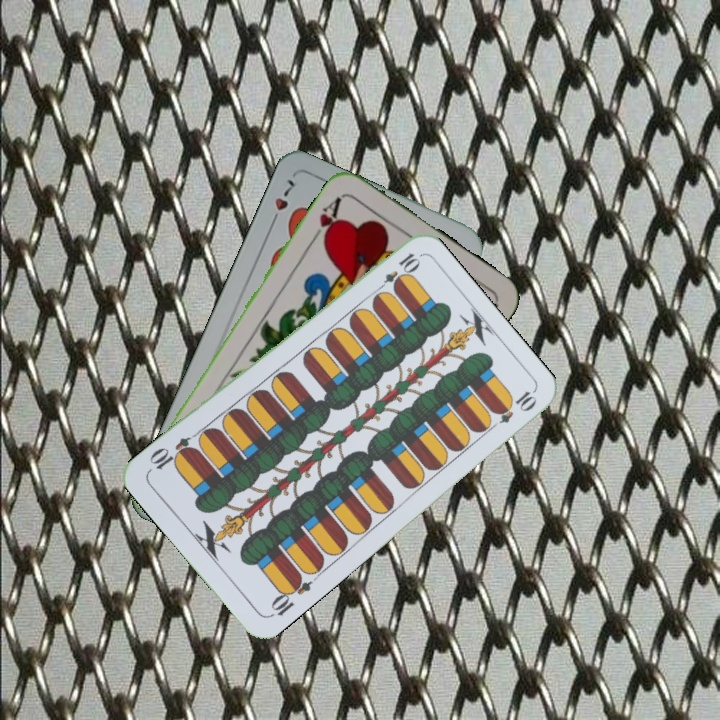E10: (265, 570, 314, 620), (371, 248, 422, 296)
H7: (265, 175, 298, 230)
HA: (307, 192, 345, 247)
